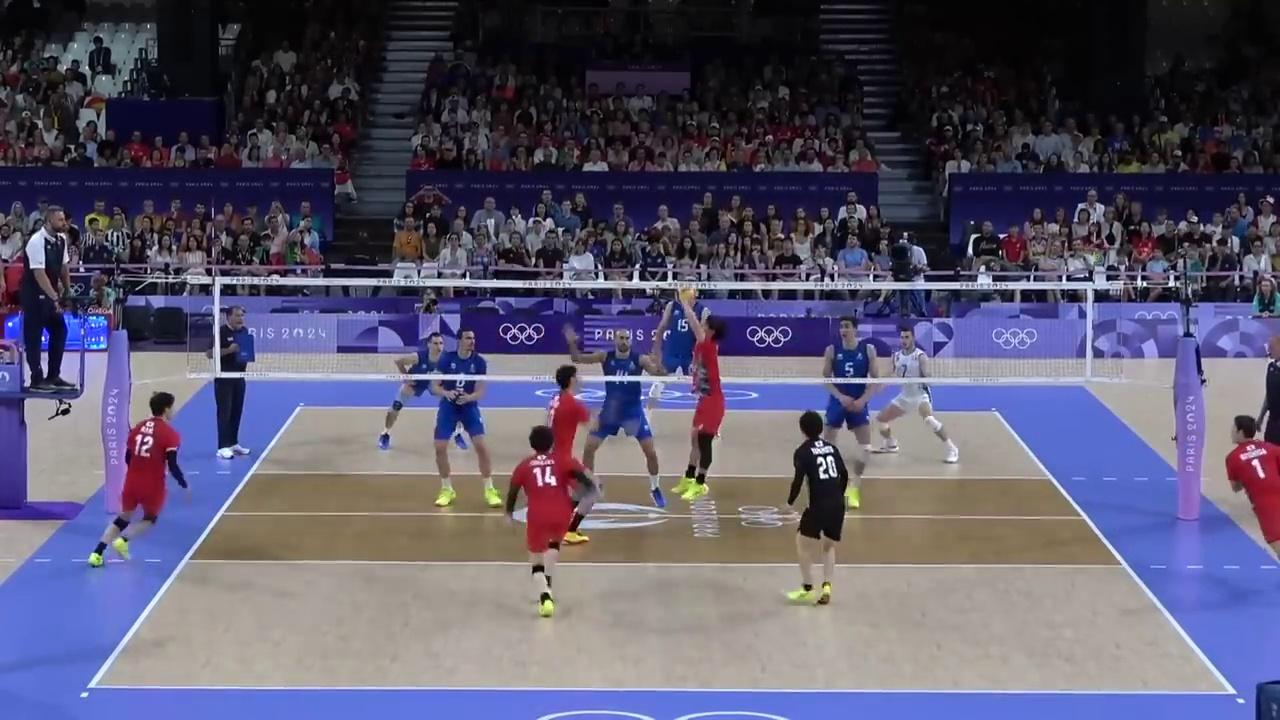ball: (674, 287, 697, 307)
